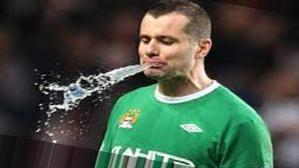spitting: (38, 1, 277, 168)
